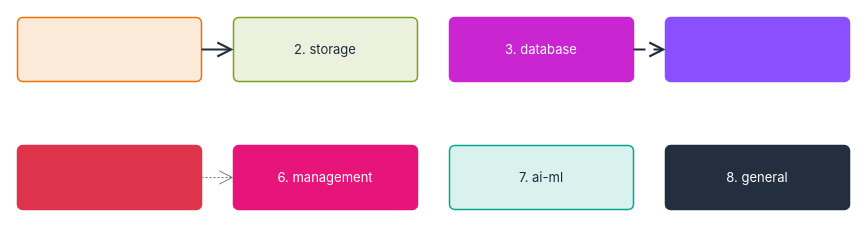
This 868x228 diagram has some shape labels left out. The box of each missing label's shape, as (x1, y1, x2, y2) in pixels:
1. compute: (16, 16, 202, 82)
4. networking: (664, 16, 850, 82)
5. security: (16, 144, 202, 210)
